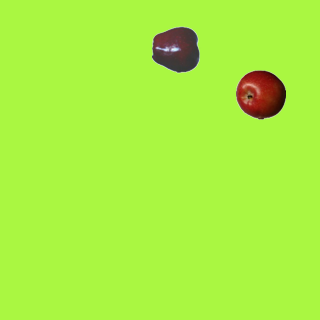Apple Braeburn: (235, 69, 285, 119)
Apple Red Delicious: (151, 24, 201, 74)
